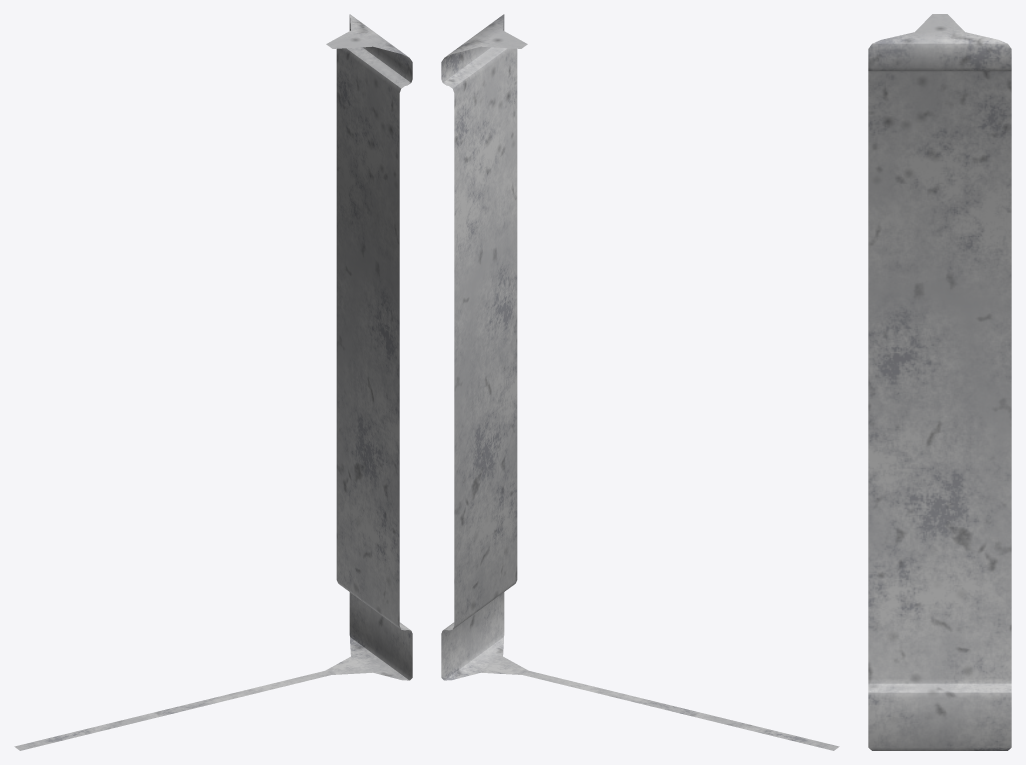
File: BalconyJoint.fbx
3 views of the same model, side by side, from view 1: azimuth 30°, elevation 25°; view 2: azimuth 150°, elevation 25°; view 3: azimuth 270°, elevation 25° (orthographic). The views are drawn at different scales.
Visible parts, largest first — view 1: BalconyJoint; view 2: BalconyJoint; view 3: BalconyJoint.
Part boxes in pixels (x1,y1,x2,y2): BalconyJoint: (14,14,412,750); BalconyJoint: (441,14,839,750); BalconyJoint: (868,14,1011,750).
Bounding box in the file's own units: 21 × 115 × 70.
Materials: 1 (1 with a texture image).
